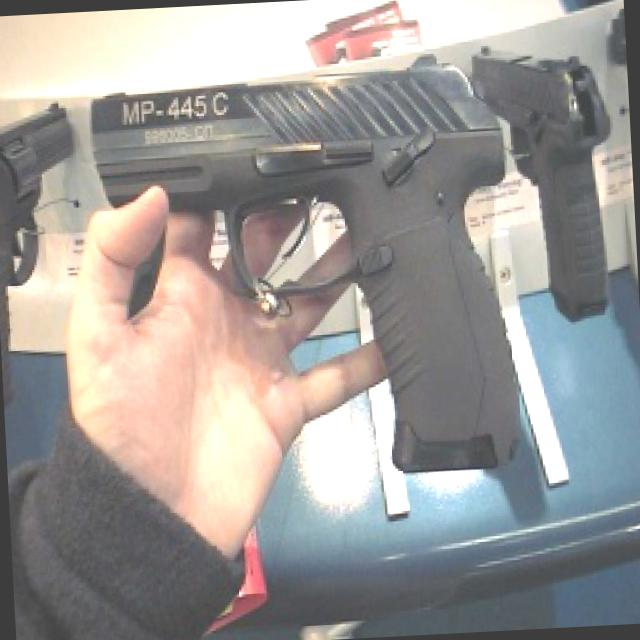handgun: (82, 54, 522, 497)
